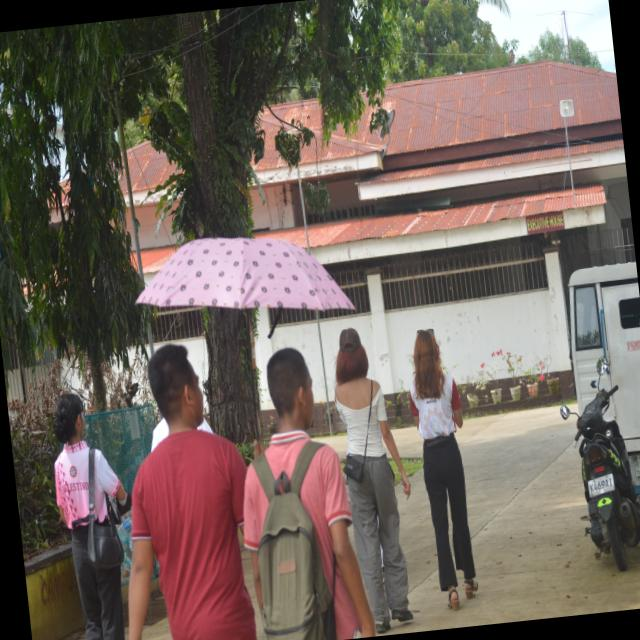person: (129, 344, 256, 639), (335, 329, 413, 633), (410, 330, 478, 609), (53, 394, 125, 639), (300, 445, 374, 639)
